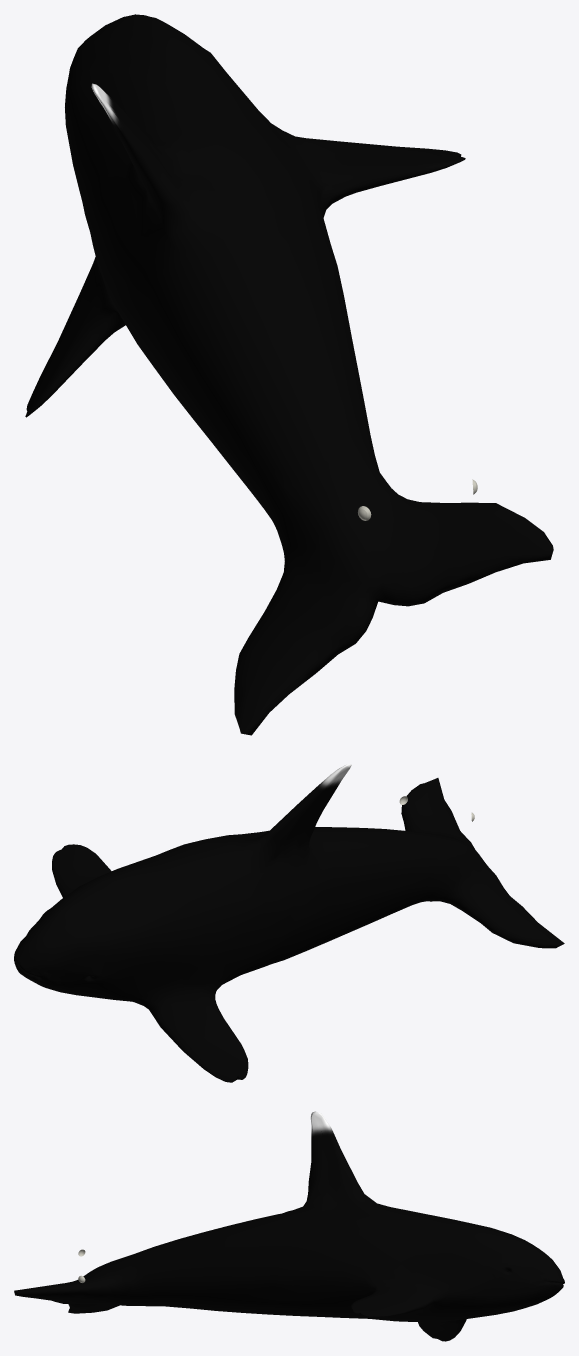
The model's file is orca.obj.
3 views of the same model, one above another, from view 1: azimuth 30°, elevation 25°; view 2: azimuth 150°, elevation 25°; view 3: azimuth 270°, elevation 25° (orthographic). The views are drawn at different scales.
Visible parts, largest first — view 1: Mesh_1; view 2: Mesh_1; view 3: Mesh_1.
Boxes of the visible parts, box(x1,y1,x2,y2) form: Mesh_1: box(25, 14, 553, 735); Mesh_1: box(14, 764, 564, 1082); Mesh_1: box(14, 1111, 564, 1341).
Size of the model in its own units: 1.36 by 1.12 by 2.51.
